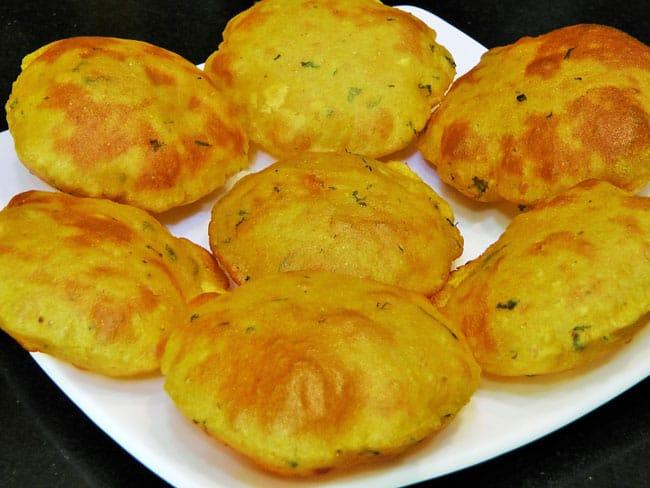puri: (6, 7, 650, 488)
